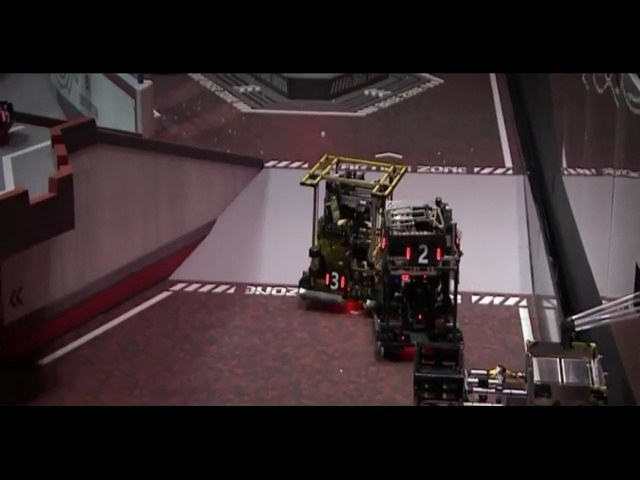bluePlate: (193, 201, 236, 231), (125, 288, 159, 316), (307, 316, 332, 344), (198, 206, 229, 226), (327, 203, 349, 222)
redPlate: (226, 295, 268, 325), (413, 225, 434, 250), (196, 289, 208, 315)
